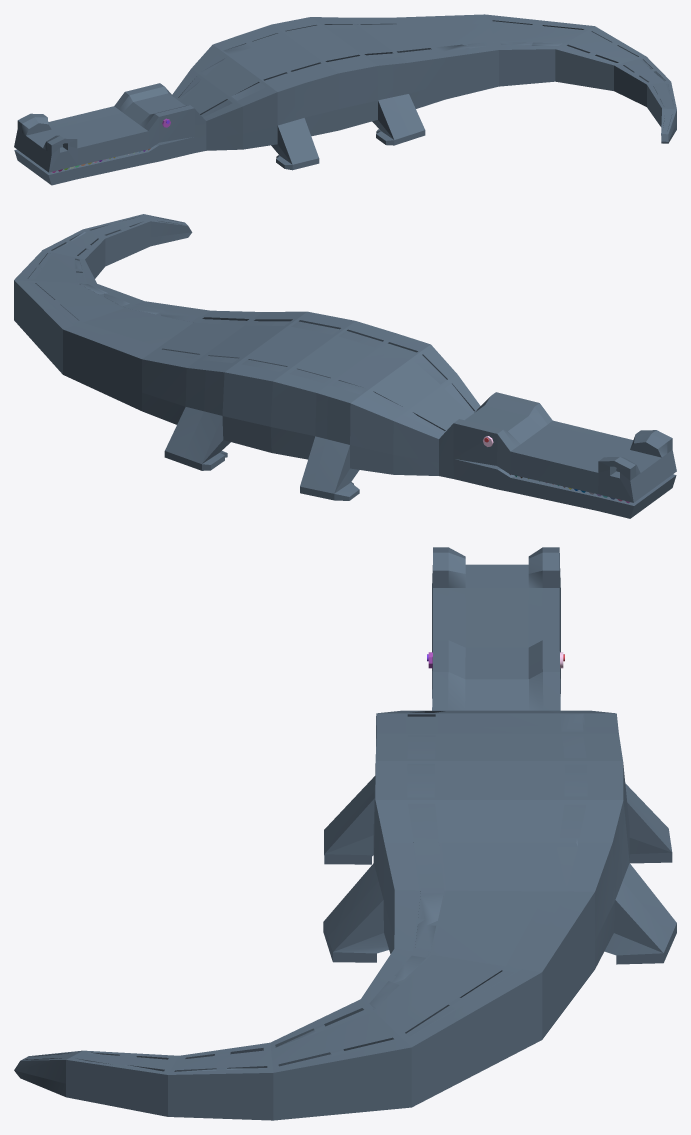
3 views of the same model, one above another, from view 1: azimuth 30°, elevation 25°; view 2: azimuth 150°, elevation 25°; view 3: azimuth 270°, elevation 25° (orthographic). The views are drawn at different scales.
Parts seen in each view (by area): view 1: split_parent_0; view 2: split_parent_0; view 3: split_parent_0.
Part boxes in pixels (box(x1,y1,x2,y2)): split_parent_0: box(14, 14, 676, 185); split_parent_0: box(14, 214, 676, 518); split_parent_0: box(14, 547, 676, 1120).
Size of the model in its own units: 1 by 0.1272 by 0.5586.
